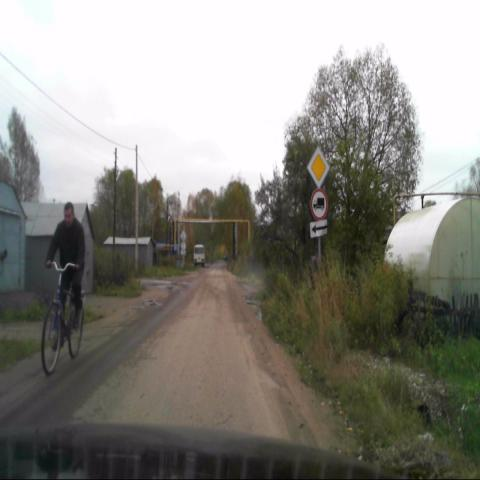8_3_2: (310, 222, 328, 238)
